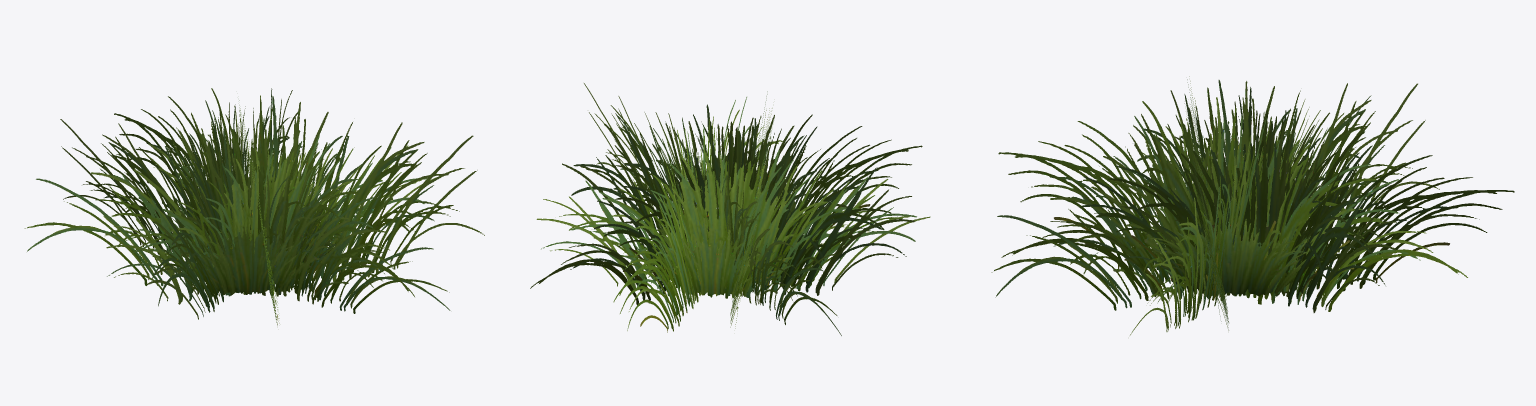
File: miracle-green-grass-3.glb
3 renders of one model, left to right at view 1: azimuth 30°, elevation 25°; view 2: azimuth 150°, elevation 25°; view 3: azimuth 270°, elevation 25°, orthographic. The views are drawn at different scales.
Parts seen in each view (by area): view 1: Grass large 3_GrassAtlas_0; view 2: Grass large 3_GrassAtlas_0; view 3: Grass large 3_GrassAtlas_0.
Part boxes in pixels (x1,y1,x2,y2): Grass large 3_GrassAtlas_0: [24, 88, 484, 325]; Grass large 3_GrassAtlas_0: [530, 83, 930, 335]; Grass large 3_GrassAtlas_0: [991, 76, 1514, 335].
Size of the model in its own units: 0.8684 by 0.44 by 1.02.
1 material, 1 textured.
